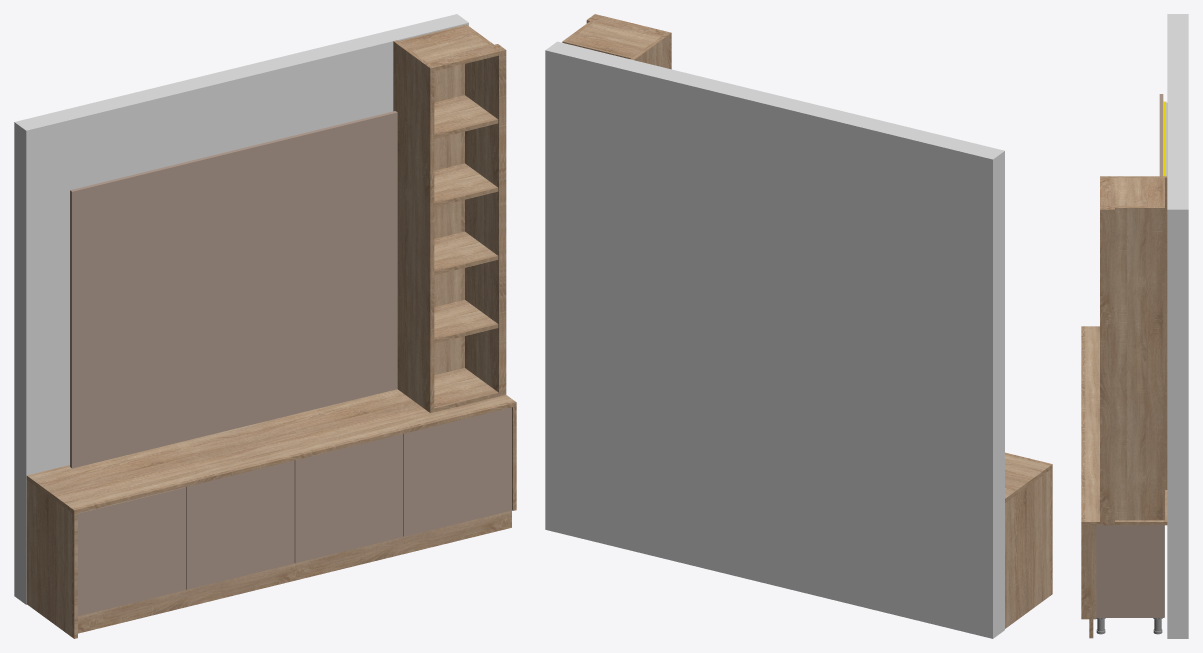
File: TV-SZEKRENY.glb
The picture shows the model from 3 angles, left to right: view 1: azimuth 30°, elevation 25°; view 2: azimuth 150°, elevation 25°; view 3: azimuth 270°, elevation 25°; orthographic projection. The views are drawn at different scales.
Parts seen in each view (by area): view 1: 3DGeom-136, 3DGeom-1, 3DGeom-131, 3DGeom-100, 3DGeom-32, 3DGeom-53, 3DGeom-69, 3DGeom-3, 3DGeom-109, 3DGeom-134, 3DGeom-132, 3DGeom-111 (+11 smaller); view 2: 3DGeom-1, 3DGeom-132, 3DGeom-98, 3DGeom-131, 3DGeom-100; view 3: 3DGeom-109, 3DGeom-1, 3DGeom-84, 3DGeom-145, 3DGeom-131, 3DGeom-98, 3DGeom-147, 3DGeom-100, 3DGeom-135, 3DGeom-77.
Part boxes in pixels (x1,y1,x2,y2): 3DGeom-136: (72,112,397,468); 3DGeom-1: (14,14,468,604); 3DGeom-131: (27,389,515,510); 3DGeom-100: (393,41,430,412); 3DGeom-32: (186,460,294,589); 3DGeom-53: (295,434,403,563); 3DGeom-69: (404,407,511,536); 3DGeom-3: (78,487,185,616); 3DGeom-109: (465,55,498,392); 3DGeom-134: (78,510,511,633); 3DGeom-132: (26,480,74,638); 3DGeom-111: (434,64,464,375); 3DGeom-1: (545,41,1004,638); 3DGeom-132: (1005,468,1052,628); 3DGeom-98: (566,16,667,58); 3DGeom-131: (1005,452,1052,498); 3DGeom-100: (634,33,671,69); 3DGeom-109: (1115,208,1164,520); 3DGeom-1: (1167,14,1188,638); 3DGeom-84: (1096,525,1164,614); 3DGeom-145: (1100,208,1114,521); 3DGeom-131: (1081,326,1167,525); 3DGeom-98: (1100,177,1164,206); 3DGeom-147: (1081,525,1096,619); 3DGeom-100: (1165,177,1167,489); 3DGeom-135: (1159,94,1163,176); 3DGeom-77: (1096,614,1164,617).
Bounding box in the file's own units: 2.15 × 2.2 × 0.5.
11 materials, 5 textured.
